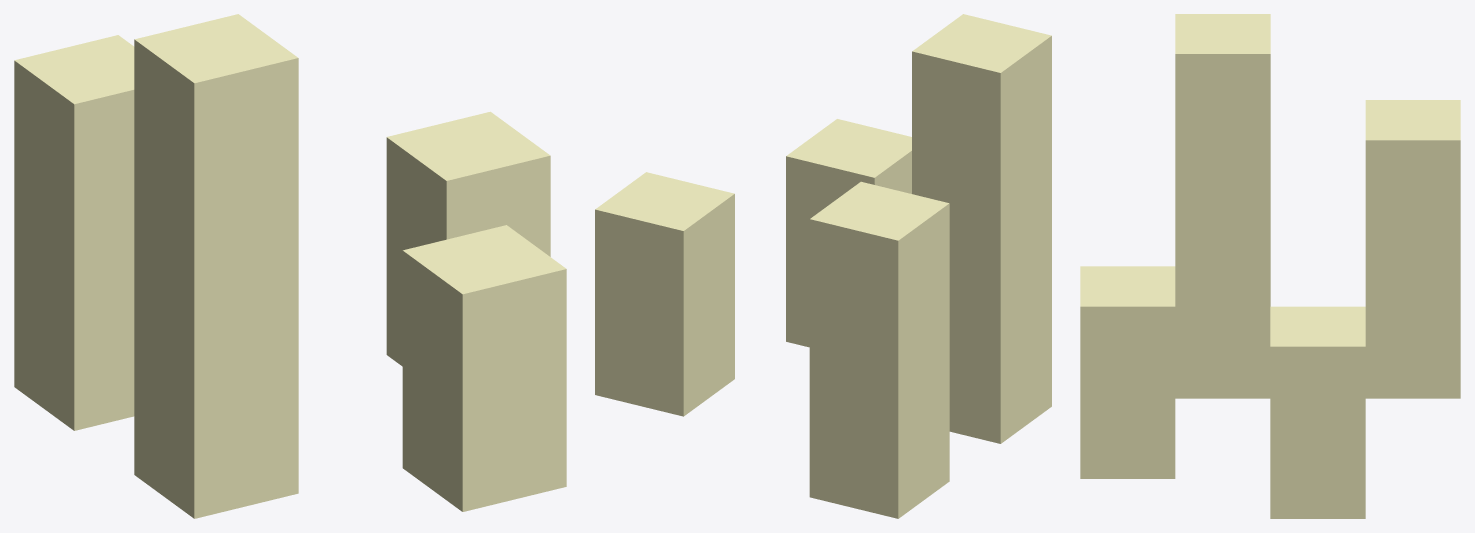
File: Vela 01.obj
The picture shows the model from 3 angles, left to right: view 1: azimuth 30°, elevation 25°; view 2: azimuth 150°, elevation 25°; view 3: azimuth 270°, elevation 25°; orthographic projection. The views are drawn at different scales.
Bounding box in the file's own units: 0.4 × 0.4 × 0.4.
Materials: 1 (1 with a texture image).
